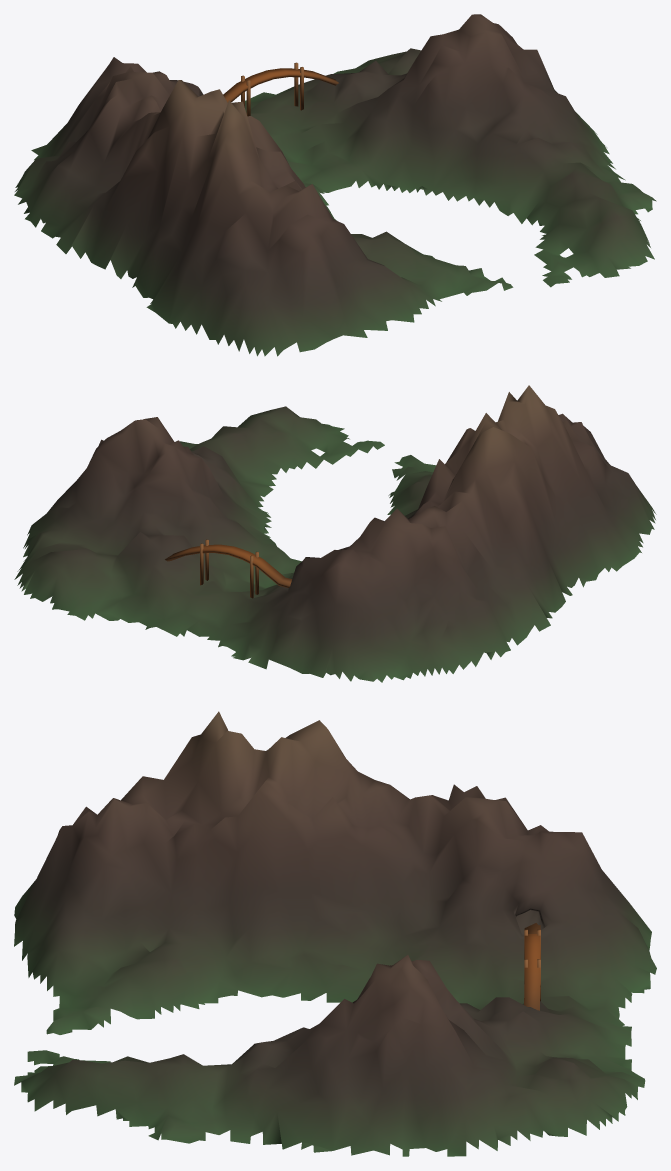
The model's file is Island_bridge_Smooth.fbx.
3 renders of one model, top to bottom at view 1: azimuth 30°, elevation 25°; view 2: azimuth 150°, elevation 25°; view 3: azimuth 270°, elevation 25°, orthographic. The views are drawn at different scales.
Visible parts, largest first — view 1: Island_bridge; view 2: Island_bridge; view 3: Island_bridge.
Part boxes in pixels (box(x1,y1,x2,y2)): Island_bridge: box(14, 14, 656, 356); Island_bridge: box(14, 385, 656, 682); Island_bridge: box(14, 711, 656, 1156).
Bounding box in the file's own units: 10844 × 3700 × 10206.
